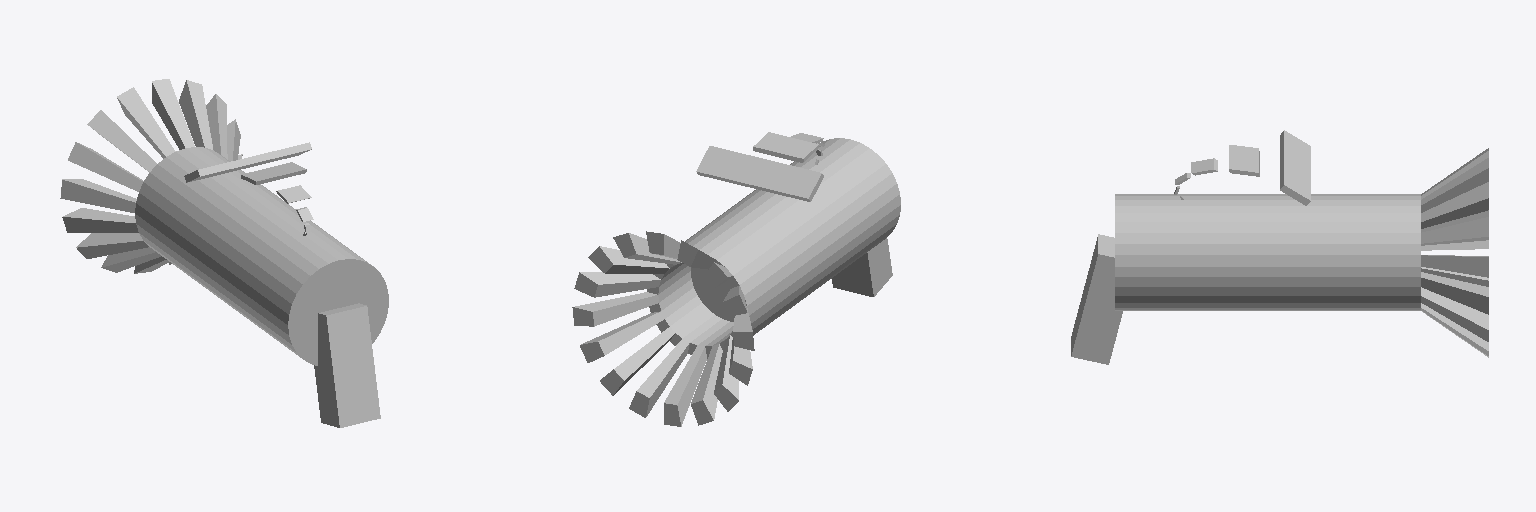
Rendered from shockGun.obj.
3 renders of one model, left to right at view 1: azimuth 30°, elevation 25°; view 2: azimuth 150°, elevation 25°; view 3: azimuth 270°, elevation 25°, orthographic.
Parts seen in each view (by area): view 1: Cylinder, Cube, Cube.001; view 2: Cylinder, Cube.001, Cube; view 3: Cylinder, Cube, Cube.001.
Boxes of the visible parts, box(x1,y1,x2,y2) form: Cylinder: box(60, 79, 388, 365); Cube: box(314, 303, 380, 427); Cube.001: box(184, 142, 313, 235); Cylinder: box(572, 138, 900, 426); Cube.001: box(696, 132, 824, 201); Cube: box(832, 238, 892, 296); Cylinder: box(1115, 148, 1488, 357); Cube: box(1071, 234, 1122, 364); Cube.001: box(1174, 130, 1310, 205).
Size of the model in its own units: 0.2973 by 0.3093 by 0.5902.